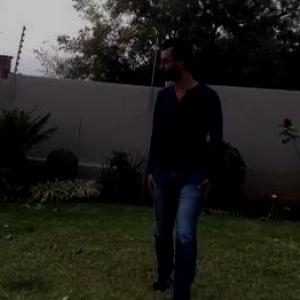follow: (133, 22, 229, 291)
